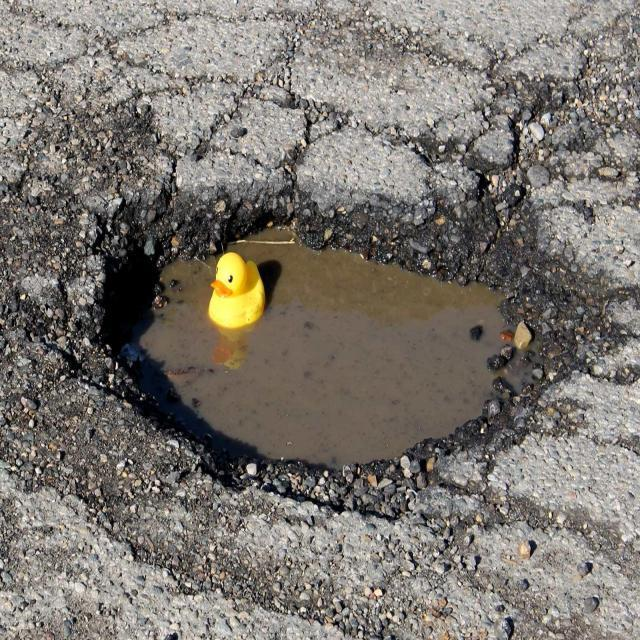Pothole: (63, 158, 618, 522)
